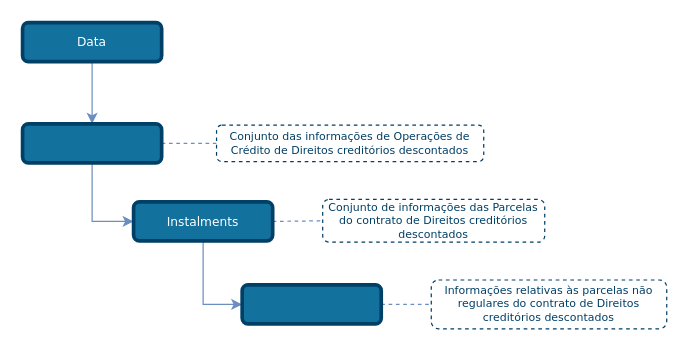
This 688x350 diagram has some shape labels left out. Here are the shapes that lost their labels. From the top down, the centre of each, then its label:
point (91, 142): Invoice Financings
point (311, 303): Ballon Payment
